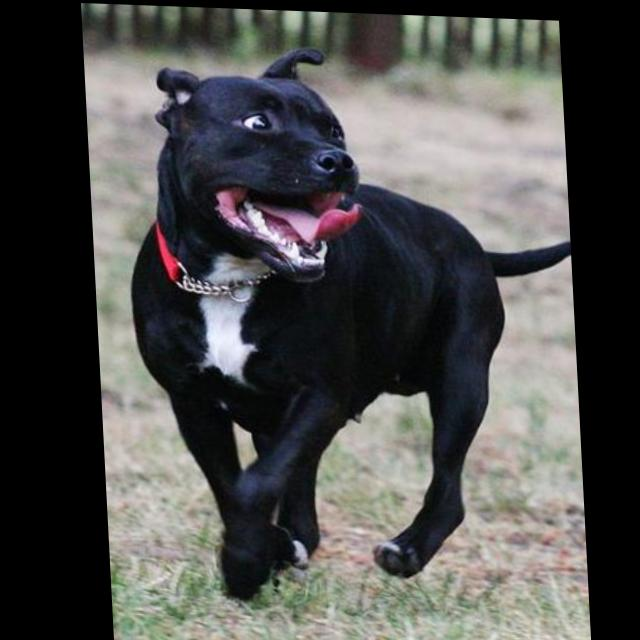staffford: (118, 39, 584, 611)
